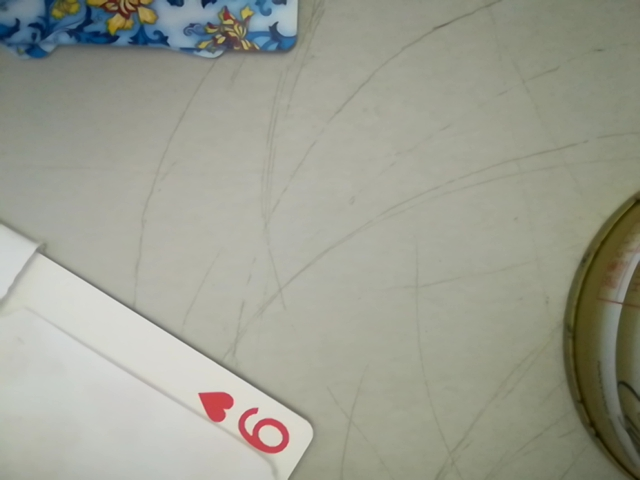hx 9: (200, 386, 299, 465)
